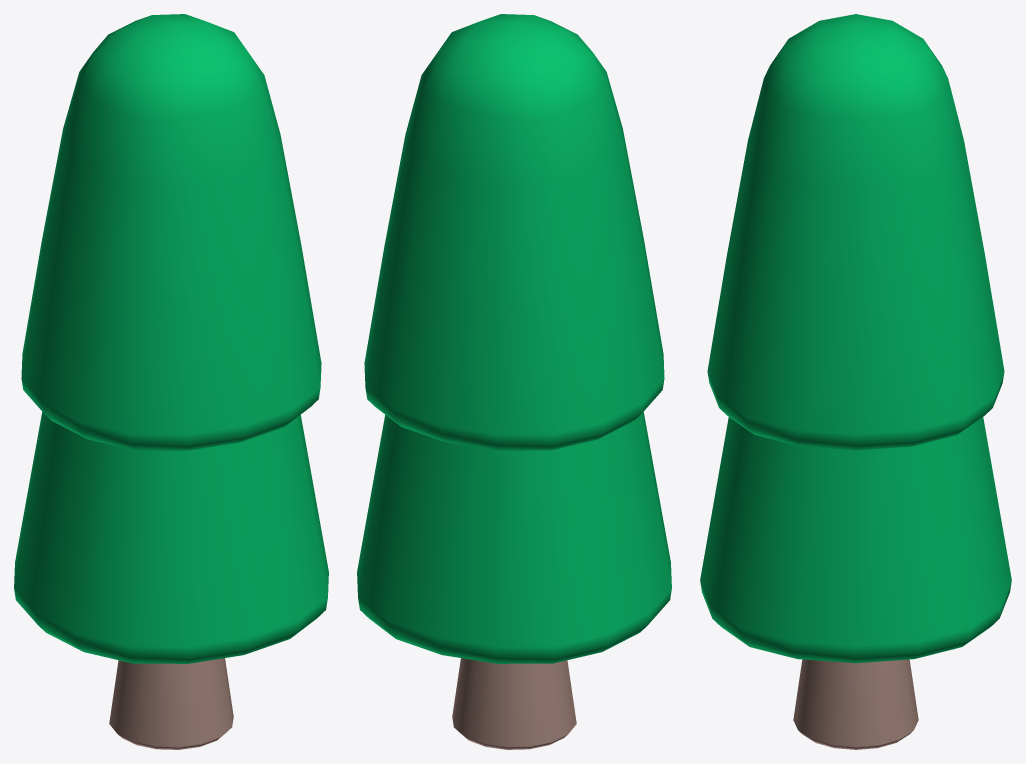
The model's file is Farm_9_Tree_1.glb.
3 renders of one model, left to right at view 1: azimuth 30°, elevation 25°; view 2: azimuth 150°, elevation 25°; view 3: azimuth 270°, elevation 25°, orthographic.
Parts seen in each view (by area): view 1: Farm_9_Tree_1; view 2: Farm_9_Tree_1; view 3: Farm_9_Tree_1.
Part boxes in pixels (bbox=[...]): Farm_9_Tree_1: bbox=[14, 14, 328, 749]; Farm_9_Tree_1: bbox=[357, 14, 671, 749]; Farm_9_Tree_1: bbox=[700, 14, 1011, 749].
Size of the model in its own units: 2.36 by 5.86 by 2.36.
1 material, 1 textured.
